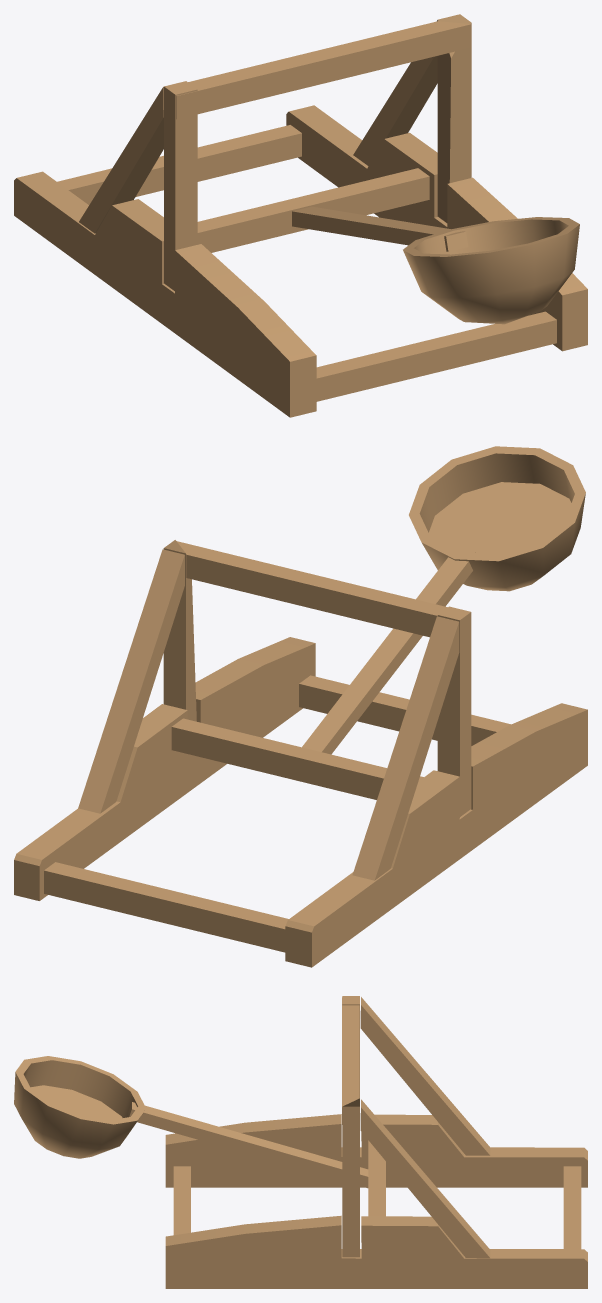
The model's file is catapult_fixed.FBX.
The picture shows the model from 3 angles, top to bottom: view 1: azimuth 30°, elevation 25°; view 2: azimuth 150°, elevation 25°; view 3: azimuth 270°, elevation 25°; orthographic projection. The views are drawn at different scales.
Visible parts, largest first — view 1: Box001, Object001; view 2: Box001, Object001; view 3: Box001, Object001.
Part boxes in pixels (left/top/right/bottom): Box001: left=14, top=14, right=587, bottom=417; Object001: left=292, top=206, right=579, bottom=324; Box001: left=14, top=540, right=587, bottom=967; Object001: left=302, top=446, right=585, bottom=754; Box001: left=165, top=996, right=587, bottom=1288; Object001: left=14, top=1056, right=368, bottom=1188.
Bounding box in the file's own units: 268 × 205 × 586.
